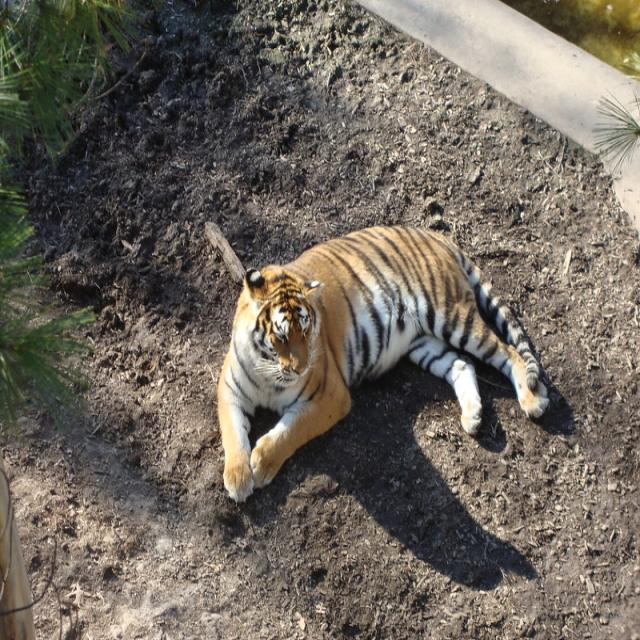Tiger: (217, 222, 548, 503)
